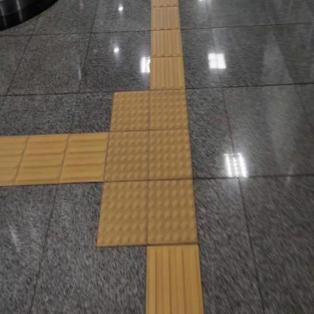Podoctatil: (82, 67, 223, 266), (0, 136, 103, 186), (144, 245, 203, 314), (151, 0, 186, 88)
